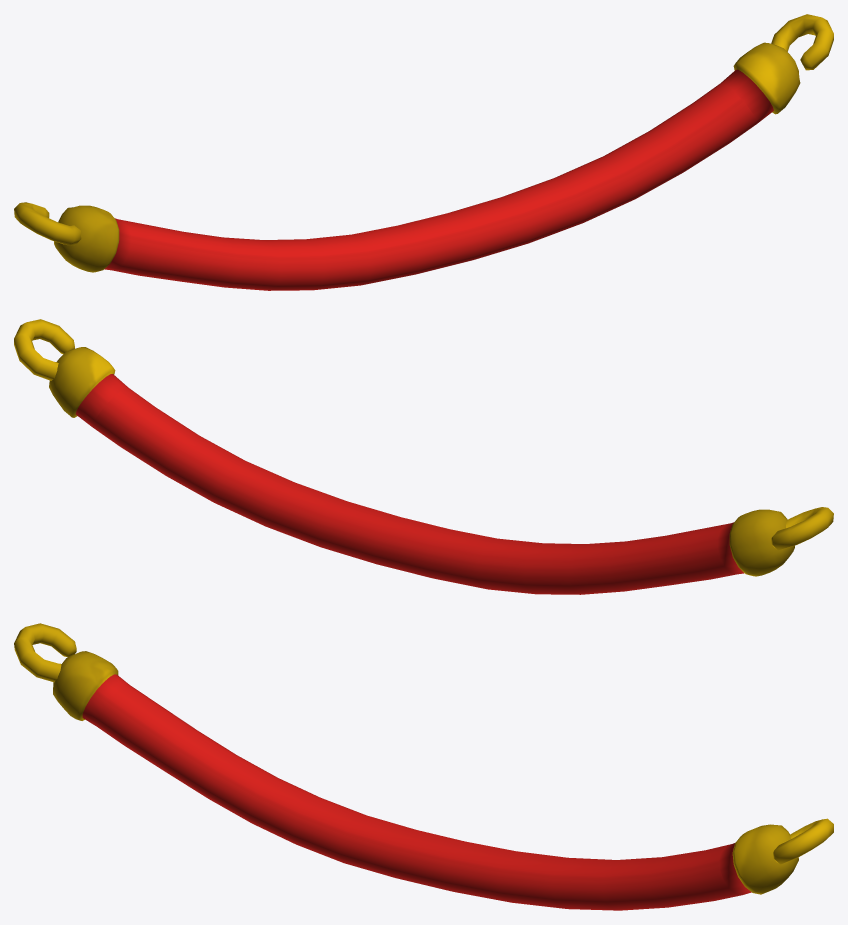
The model's file is Fita.fbx.
3 views of the same model, one above another, from view 1: azimuth 30°, elevation 25°; view 2: azimuth 150°, elevation 25°; view 3: azimuth 330°, elevation 25° (orthographic).
Visible parts, largest first — view 1: Corda; view 2: Corda; view 3: Corda.
Boxes of the visible parts, x1,y1,x2,y2 form: Corda: (14, 14, 833, 290); Corda: (14, 319, 833, 594); Corda: (14, 623, 833, 910).
Size of the model in its own units: 444 by 81.97 by 35.05.
